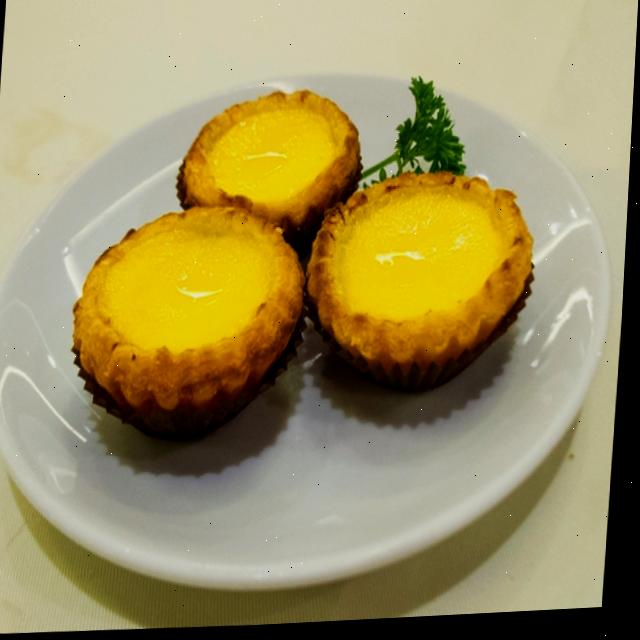炸货点心: (0, 62, 624, 622)
蛋糕甜品: (0, 62, 624, 622)
